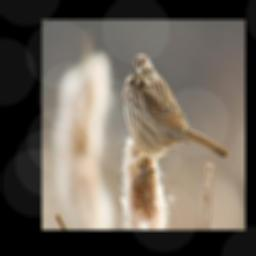Sparrow: (121, 52, 230, 187)
